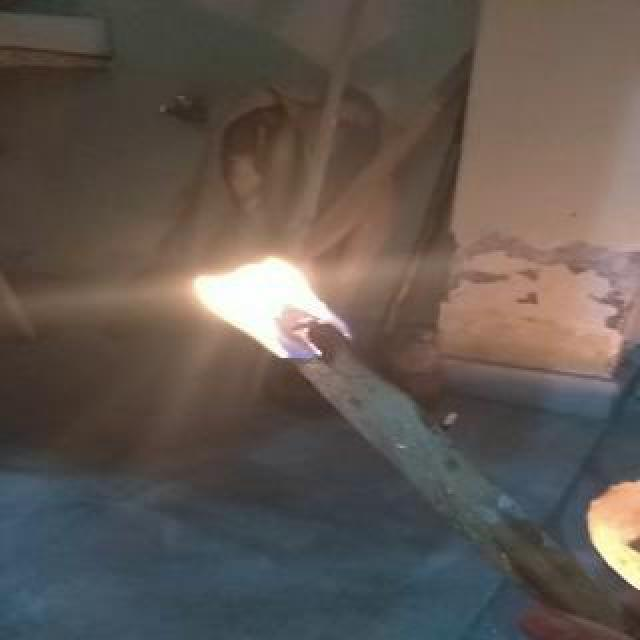Fire: (180, 246, 340, 376)
